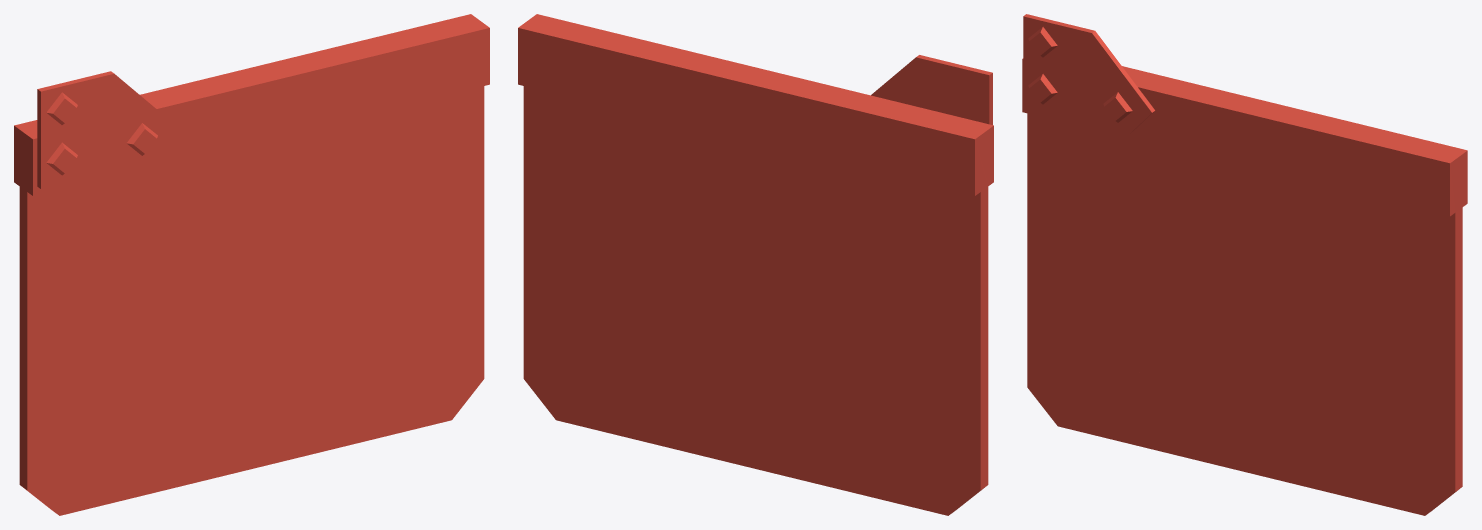
The model's file is SM_Production_Slate_Modern_Base.fbx.
3 views of the same model, side by side, from view 1: azimuth 30°, elevation 25°; view 2: azimuth 150°, elevation 25°; view 3: azimuth 330°, elevation 25° (orthographic). The views are drawn at different scales.
Visible parts, largest first — view 1: SM_Production_Slate_Modern_Base; view 2: SM_Production_Slate_Modern_Base; view 3: SM_Production_Slate_Modern_Base.
Boxes of the visible parts, left/top/right/bottom form: SM_Production_Slate_Modern_Base: left=14, top=14, right=489, bottom=515; SM_Production_Slate_Modern_Base: left=518, top=14, right=993, bottom=515; SM_Production_Slate_Modern_Base: left=1022, top=14, right=1467, bottom=515.
Bounding box in the file's own units: 2.86 × 30 × 27.46.
